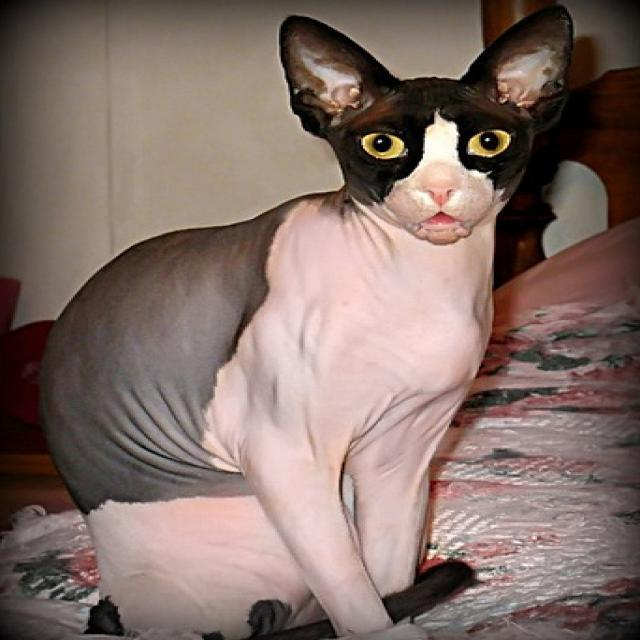Sphynx: (28, 0, 580, 640)
